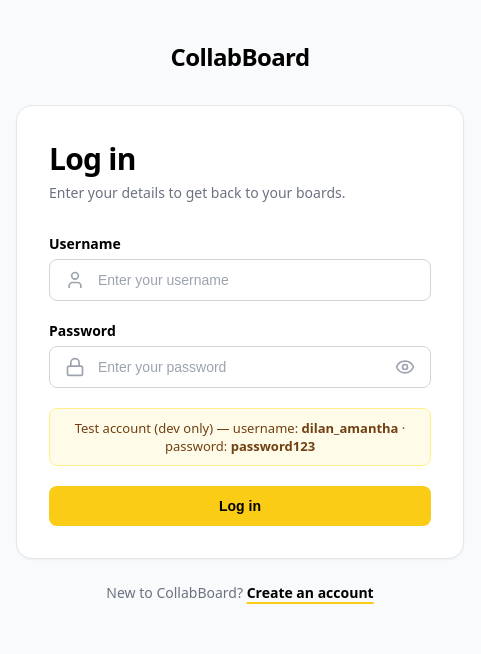
Test: LoginForm › falls back to a readable message when the response carries none
Type "dilan_amantha" into the field labelled "Username" at (240, 280), box [49,259,431,301]
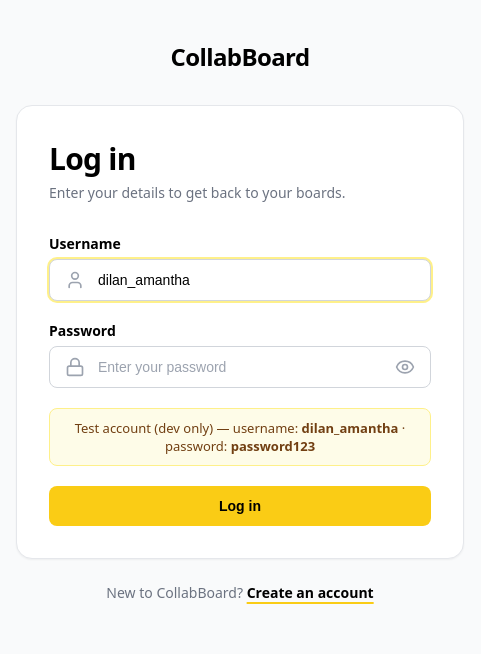
Type "wrong-password" into the password field labelled "Password" at (240, 367), box [49,346,431,388]
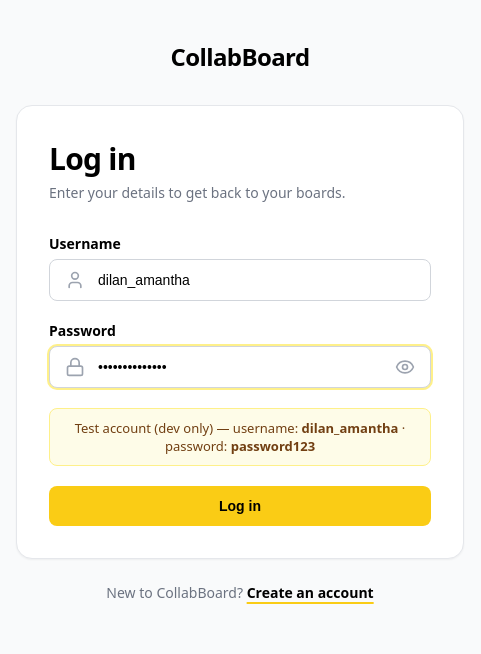
Click the button "Log in" at (240, 506), box [49,486,431,526]
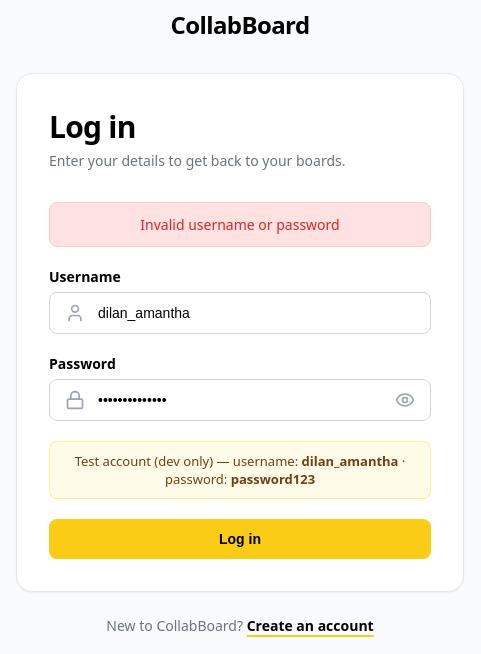
Expected: the text "Invalid username or password" is shown, [49,202,431,246]
